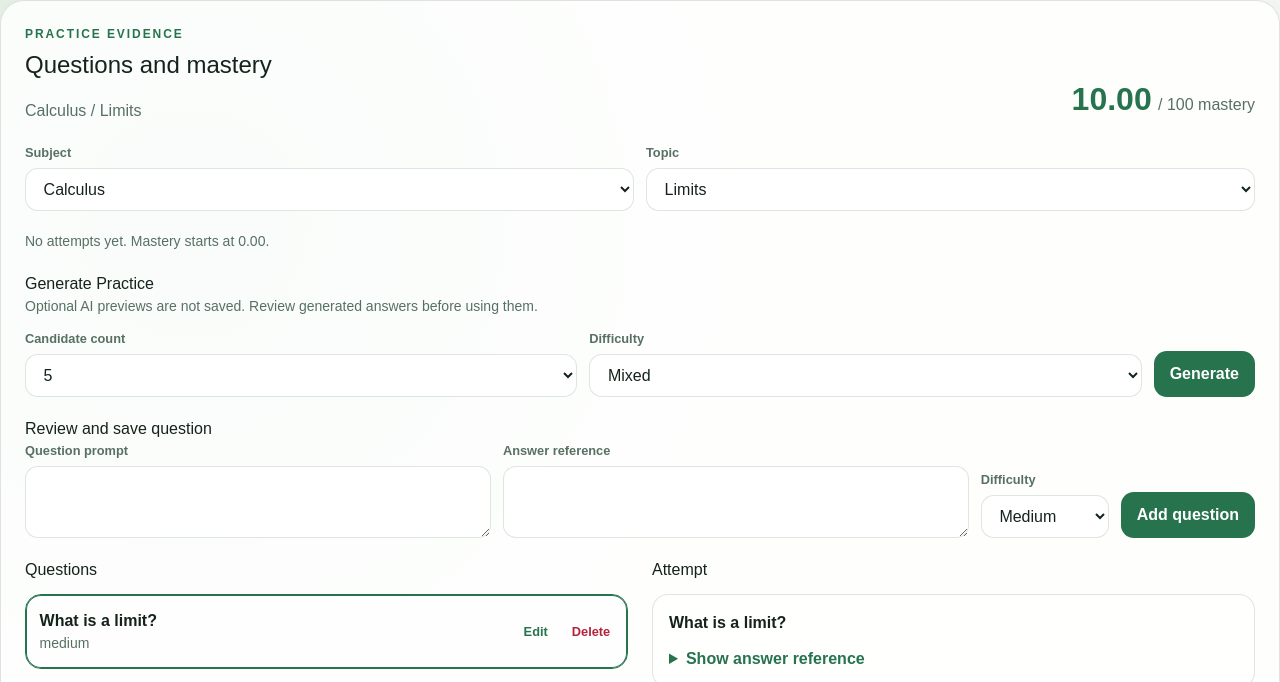
Test case: PracticeManager › ignores a stale Attempt read success after a Topic change
The width and height of the screenshot is (1280, 682).
Expected: the heading "Show answer reference" is shown, [686, 650, 865, 668]
Select "Integrals" in the dropdown named "Practice topic" at [950, 190], box [646, 168, 1255, 211]
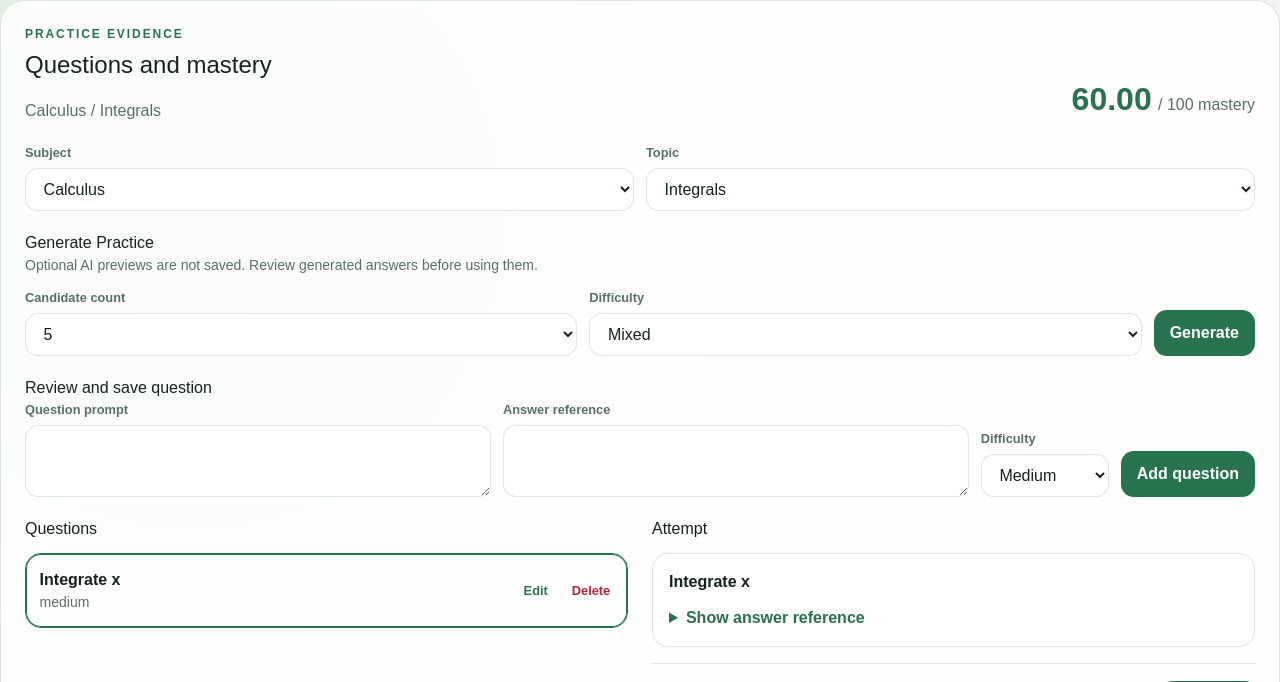
Expected: the text "Integrate x" is shown 2 times, [40, 568, 120, 592]; [669, 574, 750, 590]
Now the element named "Current mastery" shows "60.00", box [1072, 81, 1152, 117]
